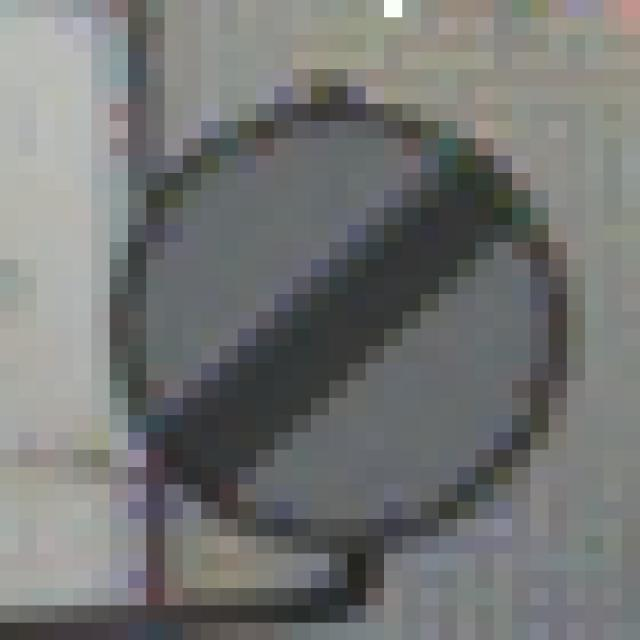restriction ends: (102, 88, 578, 556)
